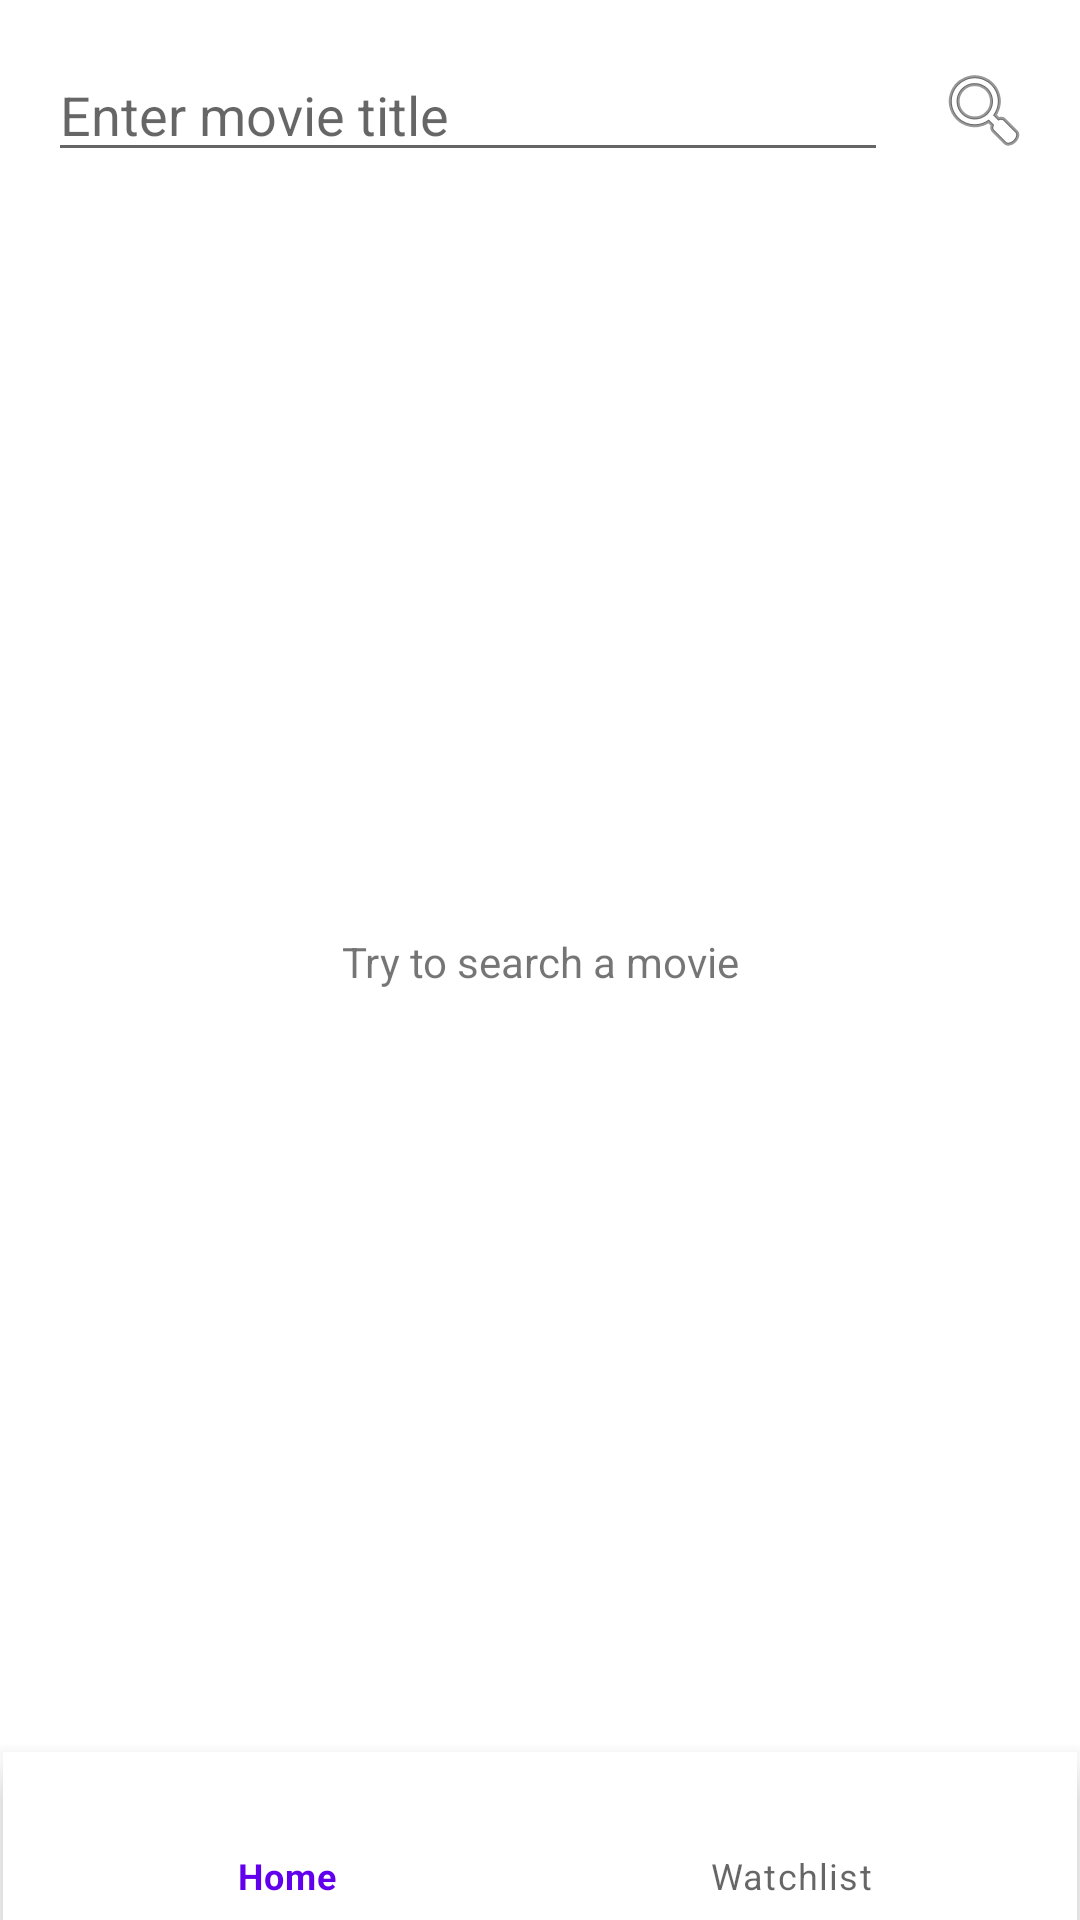

Icon bounding boxes for this 1080*1920 phone screenshot, format bbox=(x1, y1, x2, y2):
search: bbox=(948, 75, 1020, 146)
